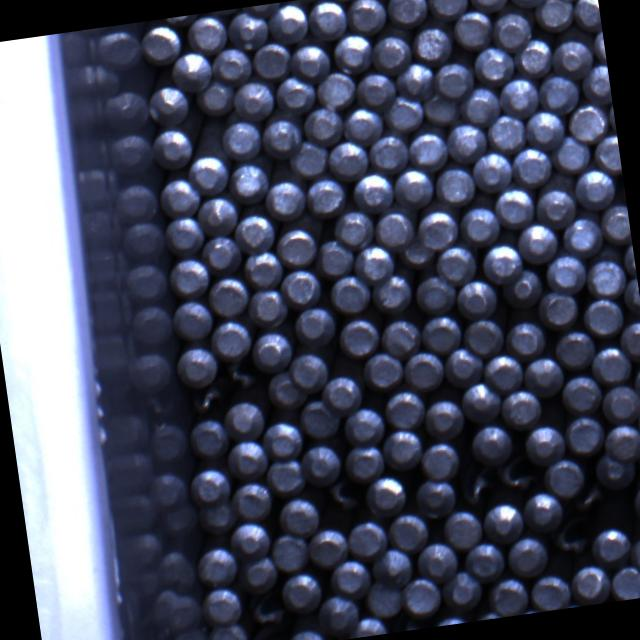tool: (316, 593, 362, 640), (250, 328, 296, 374), (370, 32, 416, 78), (350, 168, 396, 214), (490, 6, 536, 52), (445, 120, 490, 166), (262, 176, 308, 221), (416, 206, 462, 251), (506, 532, 551, 578), (364, 473, 410, 518), (370, 545, 416, 590), (522, 421, 568, 466), (294, 304, 339, 350), (459, 379, 504, 425), (493, 185, 537, 232), (469, 149, 514, 194), (346, 518, 391, 563), (320, 372, 365, 417), (226, 6, 271, 51), (370, 270, 415, 315), (300, 104, 346, 148), (402, 349, 448, 393), (574, 166, 618, 212), (560, 214, 604, 260), (472, 42, 518, 86), (516, 220, 560, 266), (174, 346, 220, 390), (382, 426, 426, 472), (434, 242, 480, 286), (569, 562, 613, 608), (498, 386, 544, 430), (260, 116, 304, 162), (289, 40, 335, 84), (551, 36, 597, 80), (209, 316, 253, 362), (469, 422, 515, 466), (484, 500, 528, 546), (414, 476, 460, 520), (399, 576, 444, 620), (496, 75, 540, 120), (151, 126, 195, 171), (480, 240, 525, 284), (459, 204, 504, 248), (380, 316, 424, 361), (304, 176, 349, 220), (544, 252, 589, 296), (265, 0, 310, 44), (520, 488, 565, 532), (306, 524, 351, 568), (443, 344, 488, 388), (341, 104, 386, 148), (280, 570, 324, 615), (299, 442, 343, 487), (455, 276, 500, 320), (440, 570, 485, 614), (343, 404, 388, 448), (414, 272, 459, 316), (166, 255, 211, 299), (422, 395, 466, 440), (296, 398, 341, 442), (332, 30, 375, 76), (380, 93, 426, 136), (170, 48, 214, 92), (326, 137, 370, 181), (508, 144, 552, 188), (140, 22, 184, 66), (406, 129, 450, 173), (450, 8, 494, 52), (387, 508, 431, 552), (522, 106, 566, 150), (432, 164, 476, 208), (510, 36, 554, 80), (278, 496, 322, 540), (363, 350, 407, 394), (536, 70, 580, 114), (384, 388, 428, 432), (393, 164, 437, 208), (338, 316, 382, 360), (332, 208, 376, 252), (486, 575, 530, 619), (196, 544, 240, 588), (554, 328, 598, 372), (416, 539, 460, 583), (522, 356, 566, 400), (148, 82, 192, 126), (157, 175, 201, 219), (457, 85, 502, 128), (207, 274, 250, 319), (420, 312, 464, 355), (564, 412, 607, 456), (275, 227, 319, 270), (232, 79, 276, 122), (222, 119, 266, 162), (410, 22, 454, 65), (352, 242, 396, 285), (328, 271, 372, 314), (392, 59, 436, 102), (538, 289, 582, 332), (187, 150, 230, 194), (227, 438, 270, 482), (542, 456, 587, 498), (441, 508, 484, 551), (170, 299, 213, 342), (247, 285, 290, 328), (162, 214, 205, 257), (564, 102, 608, 144), (548, 132, 592, 174), (315, 70, 359, 112), (528, 570, 572, 612), (582, 296, 626, 338), (461, 316, 505, 358), (200, 584, 244, 626), (288, 136, 332, 178), (198, 192, 240, 236), (343, 440, 387, 482), (534, 186, 578, 228), (235, 211, 279, 253), (502, 268, 546, 310), (484, 112, 527, 154), (187, 12, 230, 54), (465, 540, 508, 582), (331, 557, 374, 599), (585, 256, 627, 299), (306, 0, 349, 42), (275, 72, 318, 114), (421, 439, 464, 481), (374, 208, 417, 250), (189, 417, 231, 460), (189, 466, 232, 508), (366, 132, 410, 173), (250, 40, 292, 82), (210, 44, 252, 86), (482, 350, 524, 392), (280, 268, 322, 310), (560, 372, 602, 414), (228, 162, 270, 204), (231, 480, 273, 522), (264, 418, 306, 460), (290, 350, 332, 392), (224, 400, 266, 442), (506, 317, 549, 358), (230, 519, 273, 560), (590, 344, 634, 384), (594, 450, 638, 490), (365, 576, 406, 618), (270, 532, 312, 573), (265, 455, 306, 497), (434, 61, 477, 101), (592, 524, 634, 564), (243, 251, 285, 291), (195, 78, 237, 118), (238, 554, 280, 594), (202, 232, 242, 274), (266, 368, 308, 408), (197, 496, 240, 535), (317, 238, 357, 279), (354, 71, 396, 110), (346, 0, 390, 37), (601, 382, 640, 423), (421, 89, 462, 128), (603, 420, 640, 461), (533, 0, 576, 34), (599, 203, 632, 247), (580, 62, 612, 106), (385, 0, 430, 30), (592, 131, 622, 174), (609, 564, 640, 602), (342, 614, 388, 639), (572, 0, 602, 35), (425, 0, 470, 22), (619, 320, 640, 363), (206, 621, 248, 640), (242, 2, 286, 19), (622, 238, 638, 280), (623, 276, 640, 315), (283, 626, 327, 640), (592, 27, 607, 68), (428, 614, 469, 628), (466, 0, 510, 13), (473, 608, 510, 622), (163, 14, 203, 26), (629, 532, 640, 575), (506, 0, 551, 10), (633, 362, 640, 404)
tool_b: (547, 514, 593, 562), (495, 453, 539, 495), (220, 354, 262, 396), (323, 476, 365, 518), (458, 465, 499, 508), (246, 590, 287, 630), (570, 480, 608, 516), (190, 382, 228, 416)
